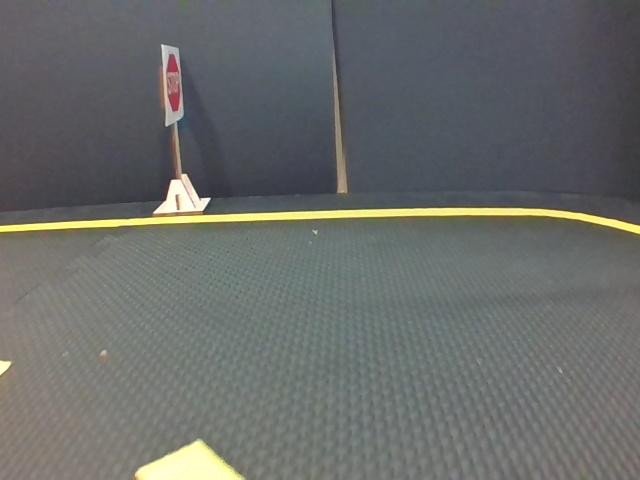stop: (161, 46, 186, 119)
